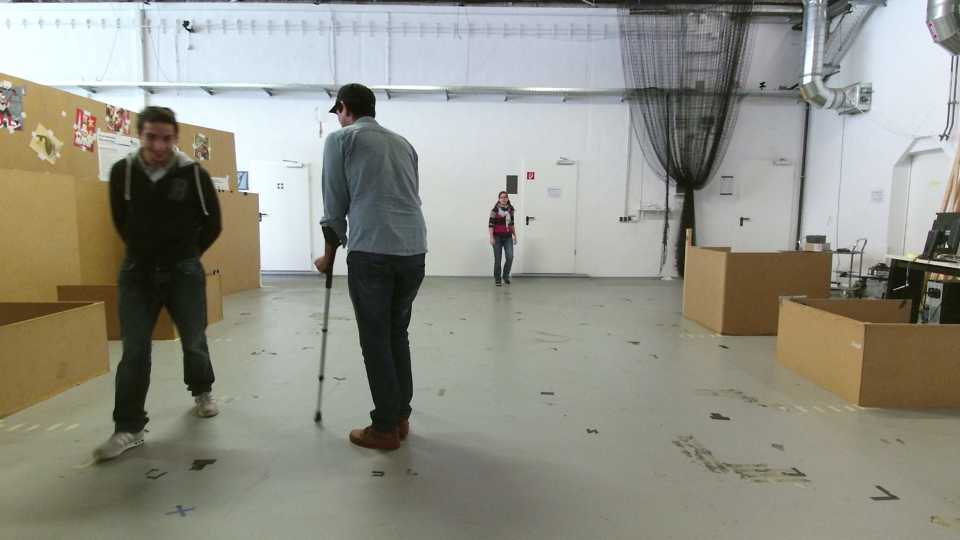crutches: (294, 71, 440, 457)
